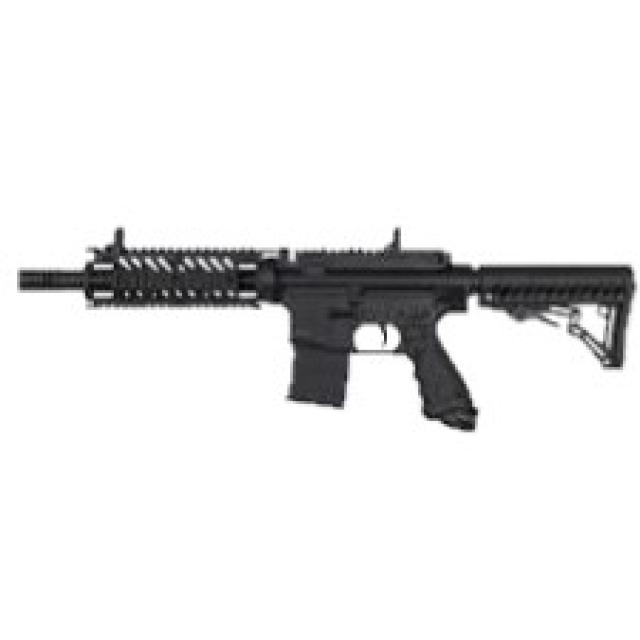rifle: (14, 216, 640, 439)
